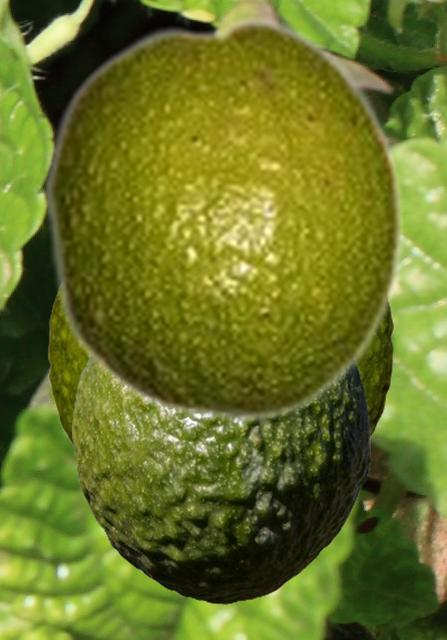avocado: (42, 14, 406, 426), (72, 358, 369, 603), (47, 291, 393, 454)
